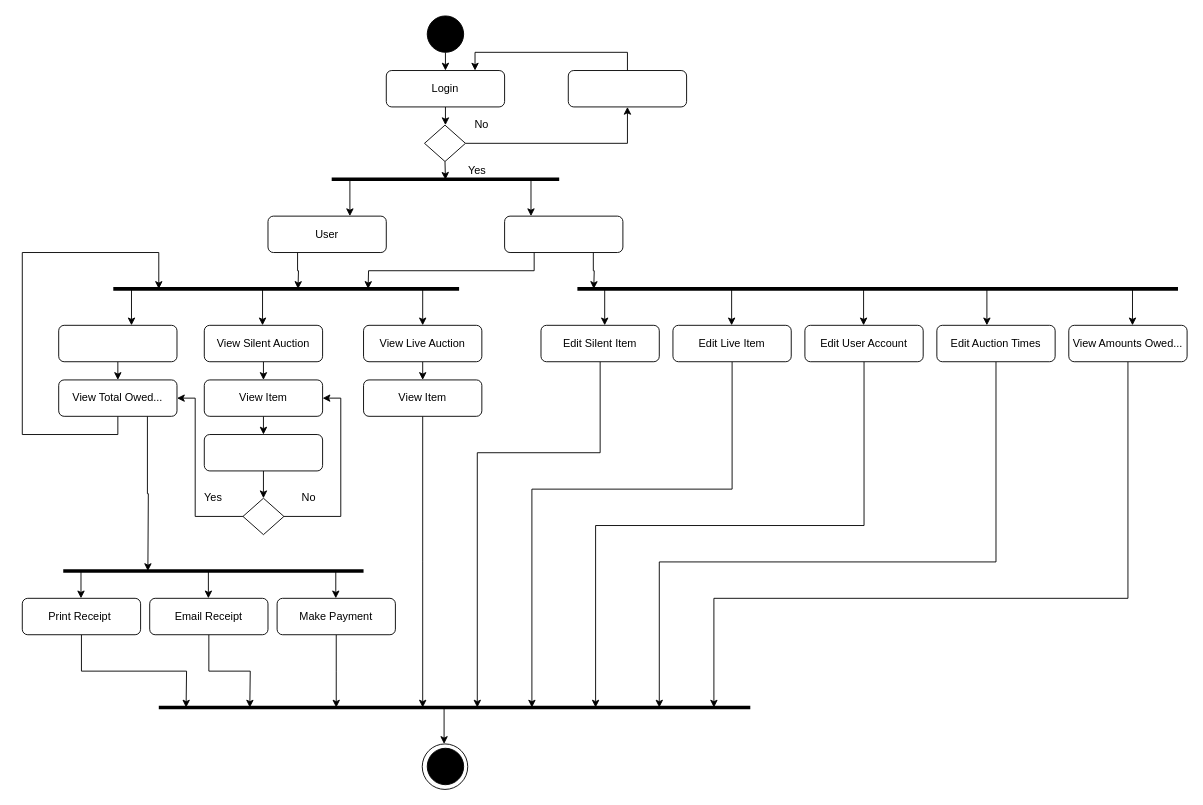
Some shapes in this 1203 by 805 pixel diagram are drawn without their labels. Here are the shapes that lost their labels. From the top down, the centre of each, then its label:
At [627,88]: "Create User".
At [563,234]: "Admin".
At [117,343]: "View Account".
At [263,452]: "Make Bid".
